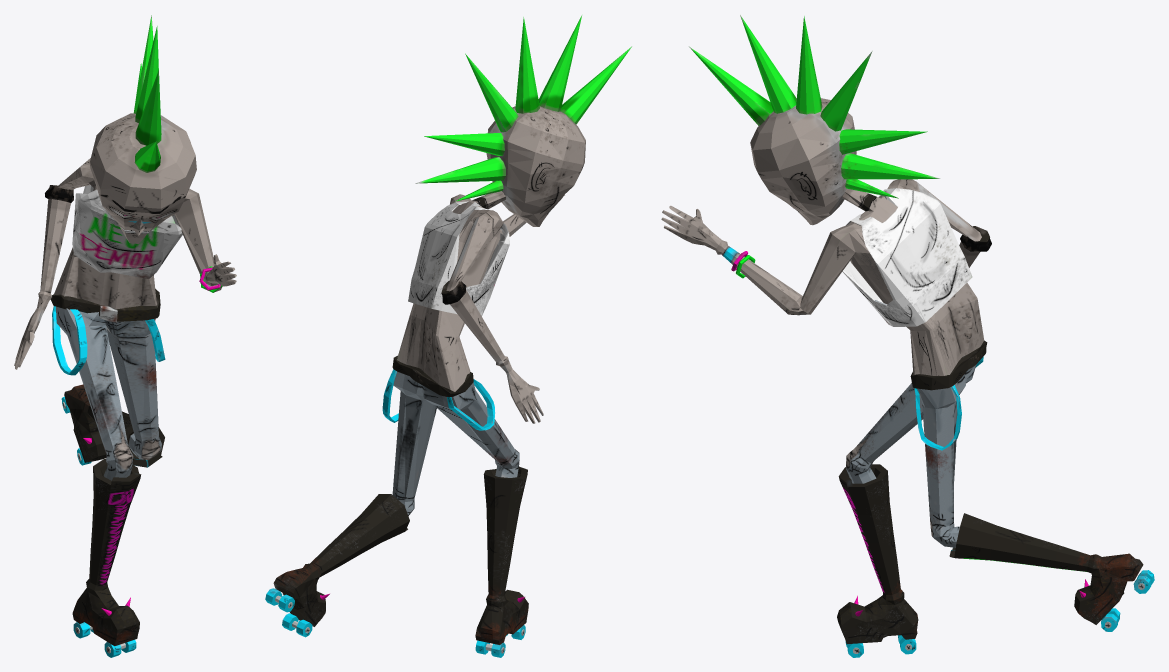
File: punkAnimation_000008.obj
3 views of the same model, side by side, from view 1: azimuth 30°, elevation 25°; view 2: azimuth 150°, elevation 25°; view 3: azimuth 270°, elevation 25° (orthographic). The views are drawn at different scales.
Visible parts, largest first — view 1: Cube.004_Cube.003; view 2: Cube.004_Cube.003; view 3: Cube.004_Cube.003.
Part boxes in pixels (box(x1,y1,x2,y2)): Cube.004_Cube.003: box(14, 15, 236, 657); Cube.004_Cube.003: box(265, 15, 631, 657); Cube.004_Cube.003: box(661, 15, 1154, 657).
Bounding box in the file's own units: 2.02 × 6.74 × 4.69.
